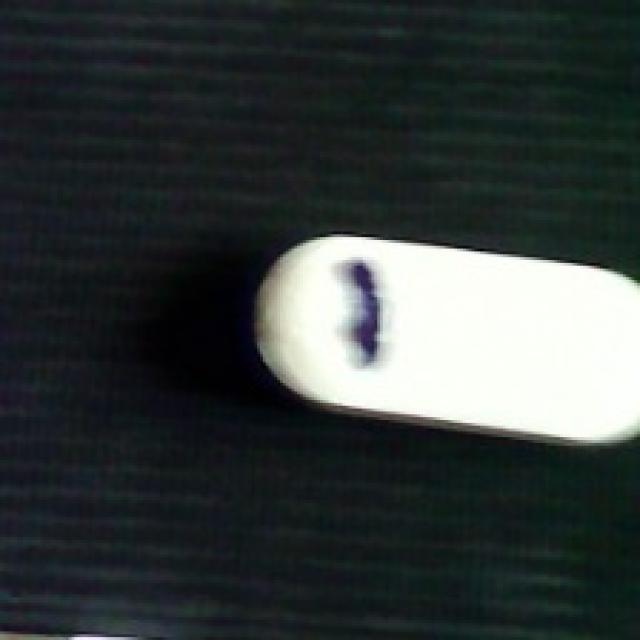defected: (243, 234, 640, 448)
